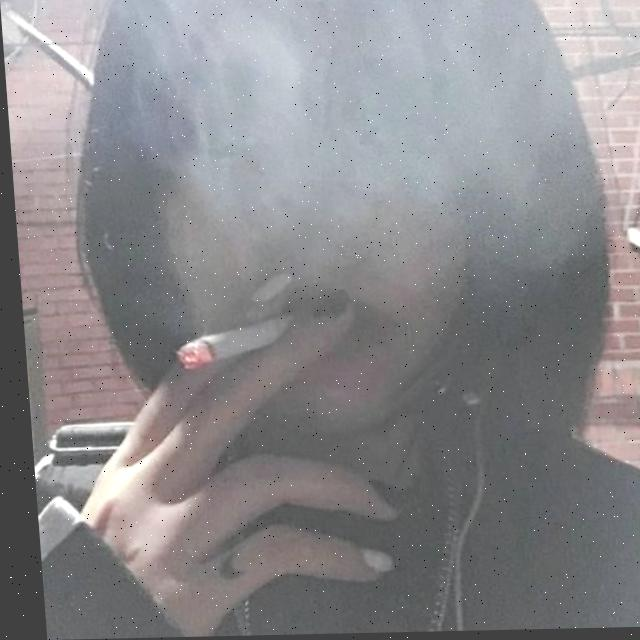cigarette: (166, 317, 297, 371)
